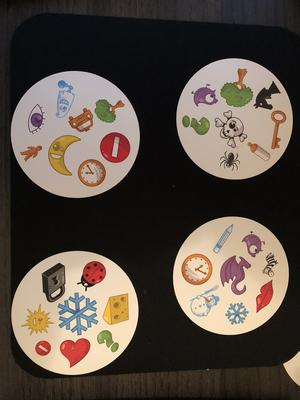araignee: (218, 149, 242, 173)
arbre: (219, 66, 255, 109), (93, 95, 126, 124)
biberon: (245, 141, 272, 164)
bonhomme: (19, 143, 44, 163)
bonhomme_neige: (187, 284, 222, 318)
bouche: (253, 278, 278, 313)
cadenas: (40, 262, 68, 304)
cheval: (253, 77, 283, 111)
cle: (268, 109, 288, 150)
coccinelle: (77, 256, 107, 290)
coeur: (57, 335, 93, 370)
crayon: (212, 222, 235, 255)
dragon: (219, 252, 251, 295)
fantome: (51, 77, 79, 125)
flocon: (55, 291, 99, 338), (224, 301, 250, 326)
fromage: (102, 291, 132, 328)
horloge: (175, 248, 214, 289), (76, 154, 107, 188)
lune: (45, 132, 81, 177), (47, 133, 82, 178)
oeuil: (26, 101, 47, 136)
oiseau: (189, 79, 218, 111), (240, 229, 267, 260)
point_interrogation: (178, 114, 212, 137), (96, 327, 120, 353)
sens_interdit: (100, 131, 131, 163), (34, 340, 53, 357)
soleil: (20, 300, 55, 337)
tete_mort: (212, 109, 250, 150)
voiture: (65, 101, 95, 134)
zebre: (262, 250, 281, 280)
